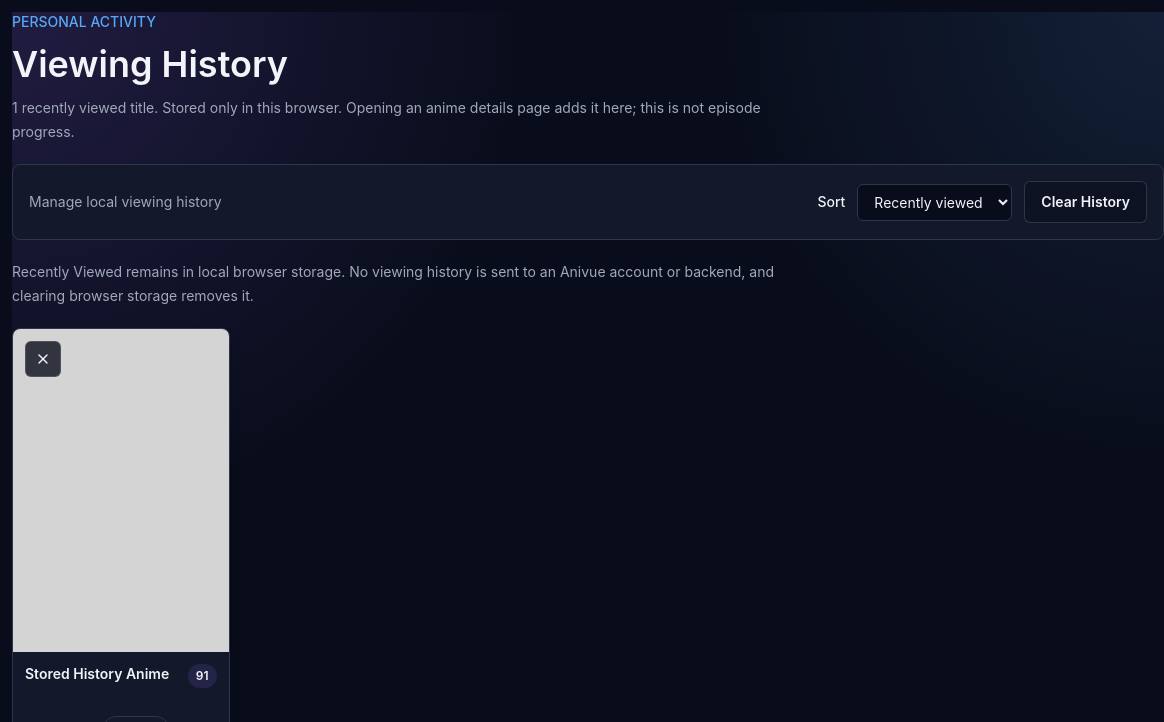
Scenario: ViewingHistoryPage › removes one history entry
This screenshot has width=1164, height=722.
What coordinates should you click on to do the following:
click the button named "remove stored history anime from viewing history"
I would click on:
 (43, 359)
Its box is [25, 341, 61, 377].
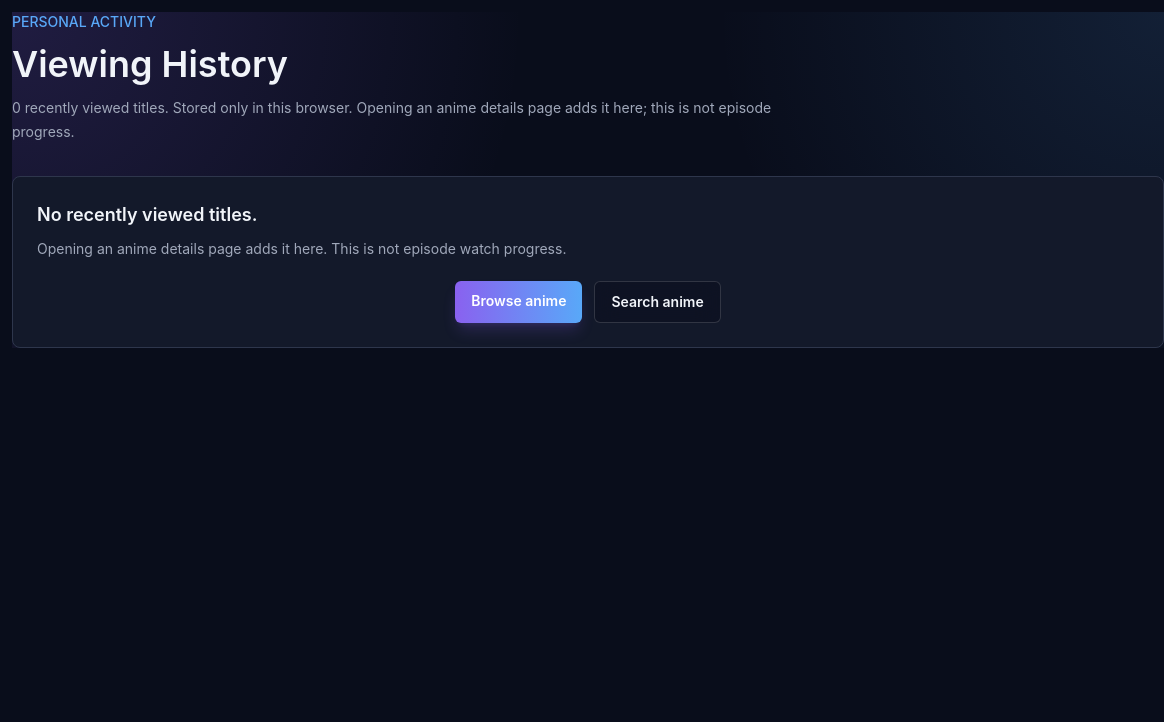
Now the heading "No recently viewed titles." is shown, box [37, 204, 257, 225]
